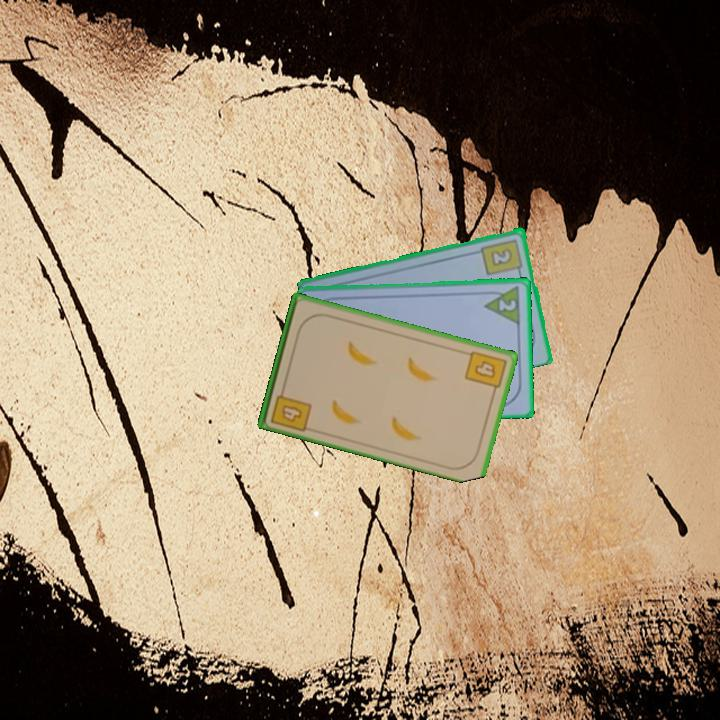2b: (478, 235, 526, 278)
2p: (481, 282, 523, 327)
4b: (461, 347, 509, 397), (267, 383, 314, 434)
